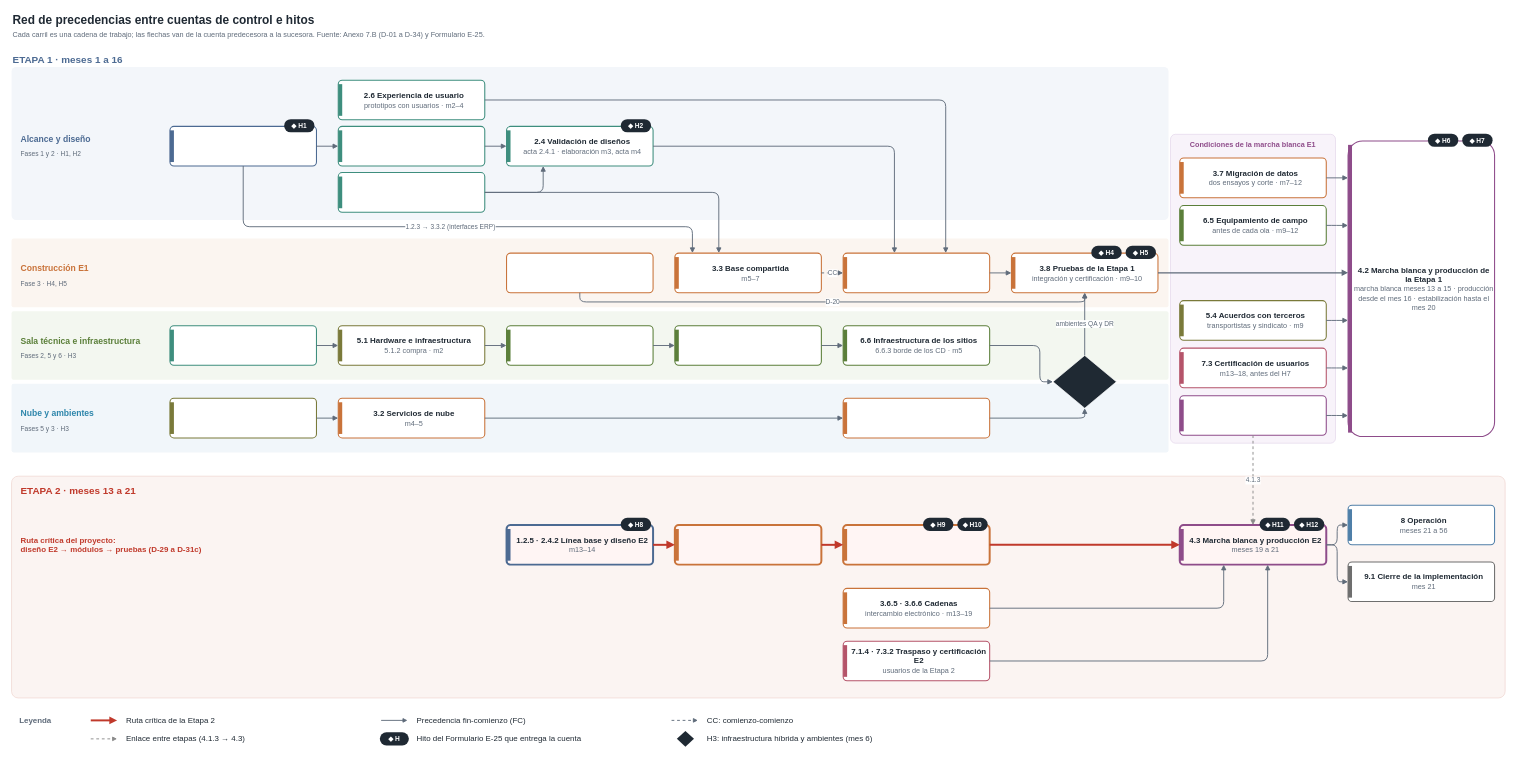
The diagram is 1517 pixels wide and 758 high, and some of its shapes have lost their labels. Here are the shapes that lost their labels. From the top down, the box of each, then its label:
(169, 126, 317, 166): 1.2 Alcance del proyecto 1.2.1 · 1.2.3 · 1.2.4 · m1–2
(337, 126, 485, 166): 2.1 Arquitectura de la solución 2.1.1–2.1.3 · m2–4
(337, 172, 485, 212): 2.2 Diseño de la seguridad 2.2.1 plan de seguridad · m2–10
(506, 252, 653, 293): 3.6.1–3.6.4 Integraciones externas E1 proveedores, pago, mapas, avisos · m6–8
(842, 252, 990, 293): 3.4 Módulos de la Etapa 1 m6–8
(169, 325, 317, 366): 2.3 Diseño de sala y racks planos · m1–2
(506, 325, 653, 366): 6.1 Sala técnica de Talca m3–4
(674, 325, 822, 366): 6.3 Racks y gabinetes 6.3.1–6.3.3 · m4–5
(1052, 355, 1116, 408): H3 mes 6
(169, 397, 317, 438): 5.2 Nube y licencias contrato de servicios · m2–4
(842, 397, 990, 438): 3.1 Ambientes DEV, QA, Preproducción, DR · m4–5
(1179, 395, 1326, 435): 4.1 Plan de implantación olas y reversión · m10–17
(674, 524, 822, 565): 3.5 Módulos de la Etapa 2 m15
(842, 524, 990, 565): 3.9 Pruebas de la Etapa 2 integración y certificación · m16–17
